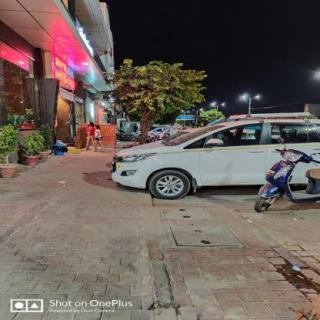Normal_vehicle: (110, 117, 319, 198)
